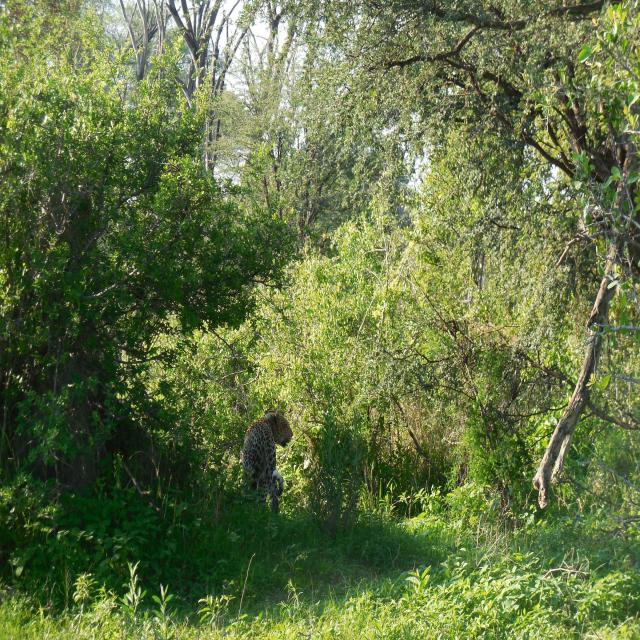Leopard: (241, 408, 293, 514)
